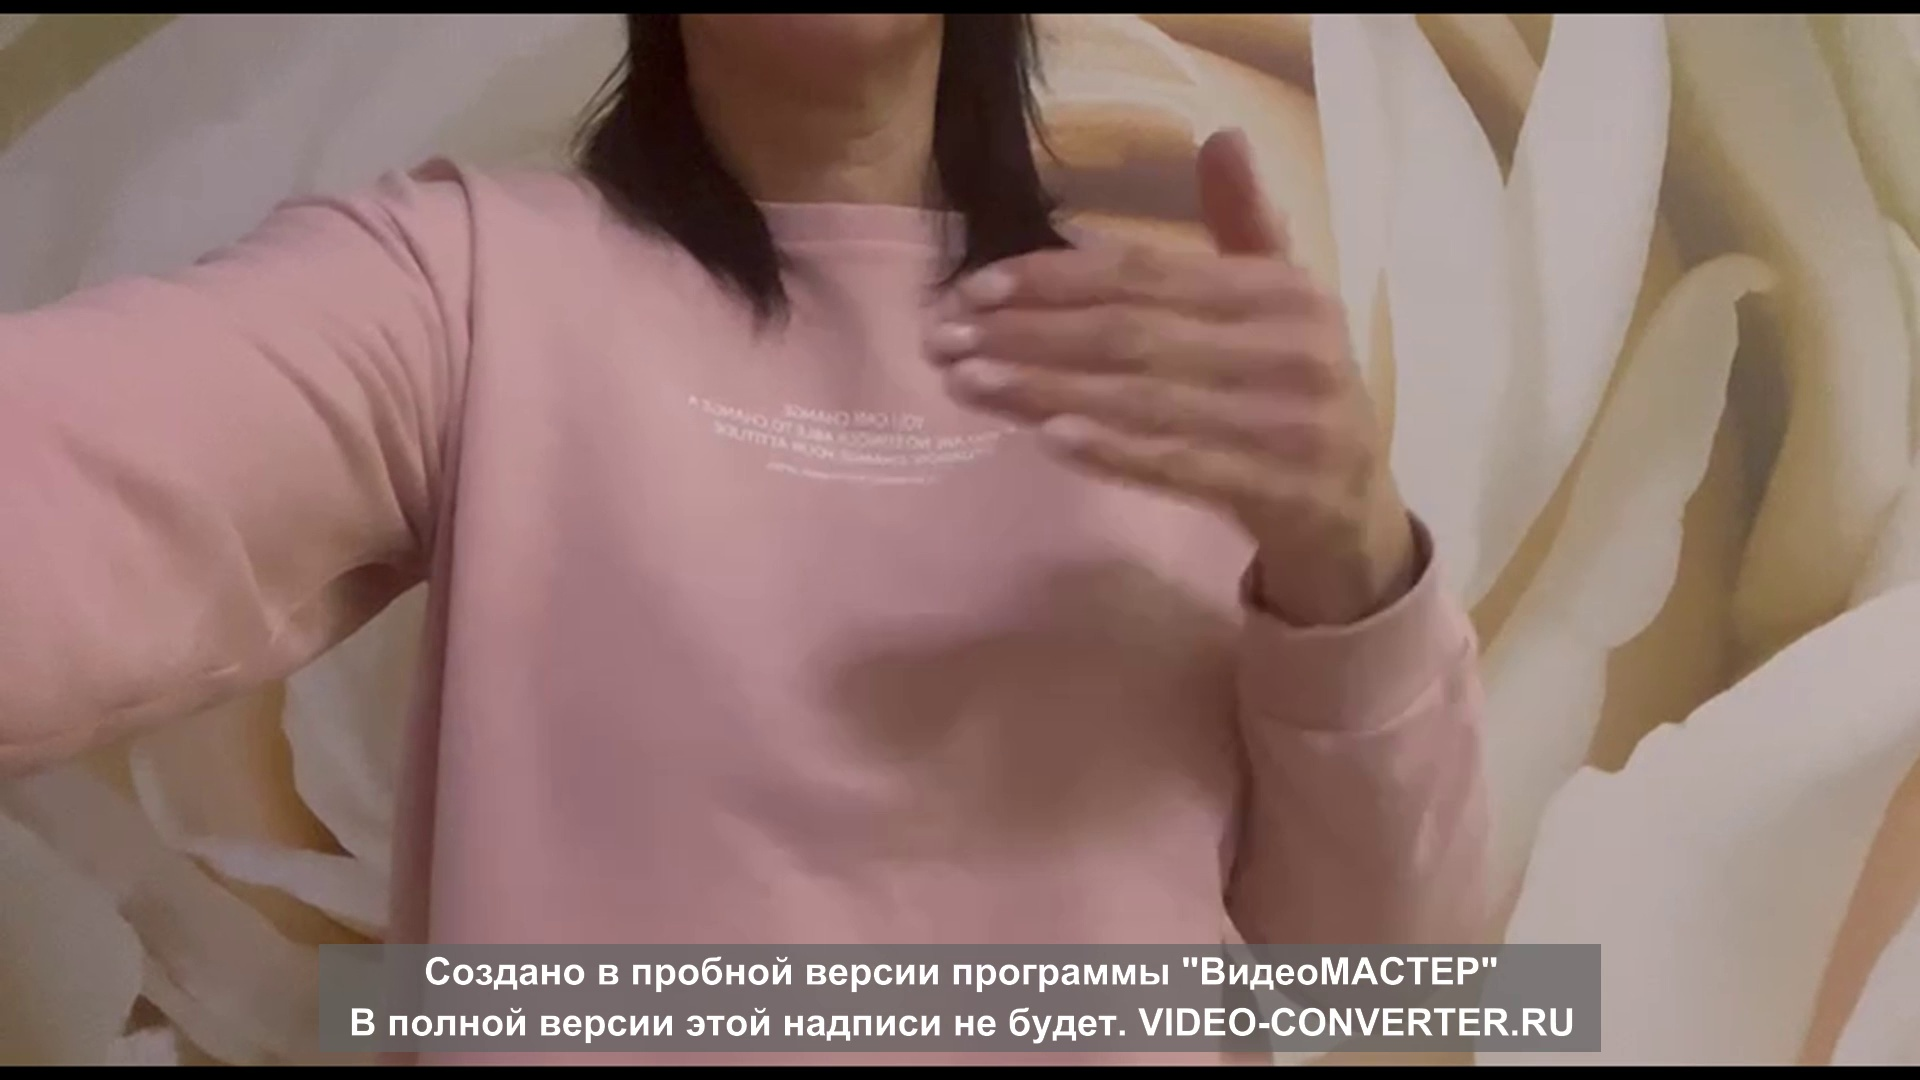Кисть: (922, 127, 1375, 538)
